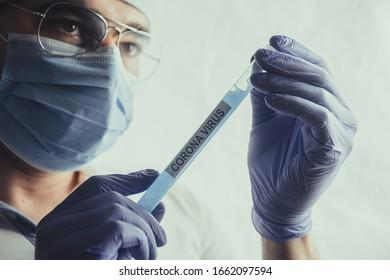gloves: (247, 34, 359, 241), (34, 168, 168, 260)
